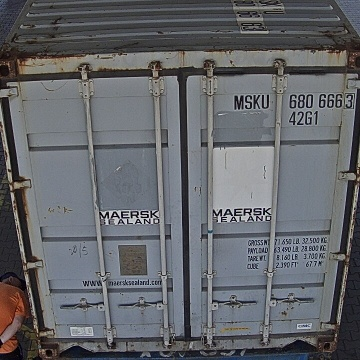serial_id: (234, 93, 355, 109)
